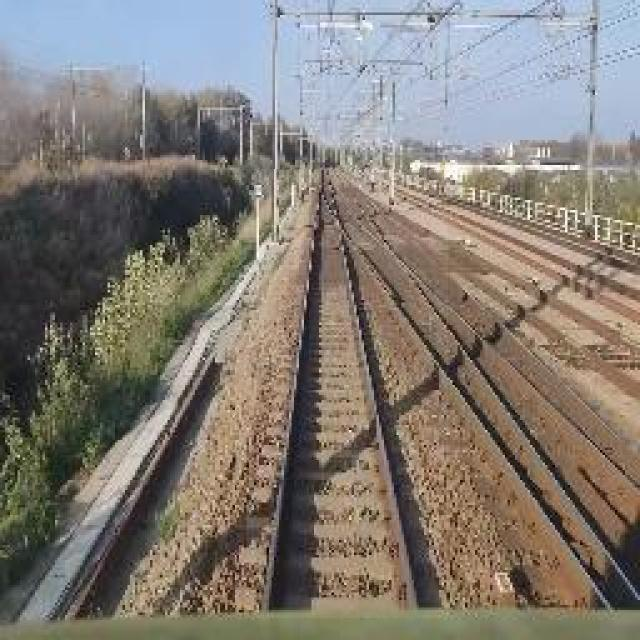rail: (236, 170, 449, 619)
